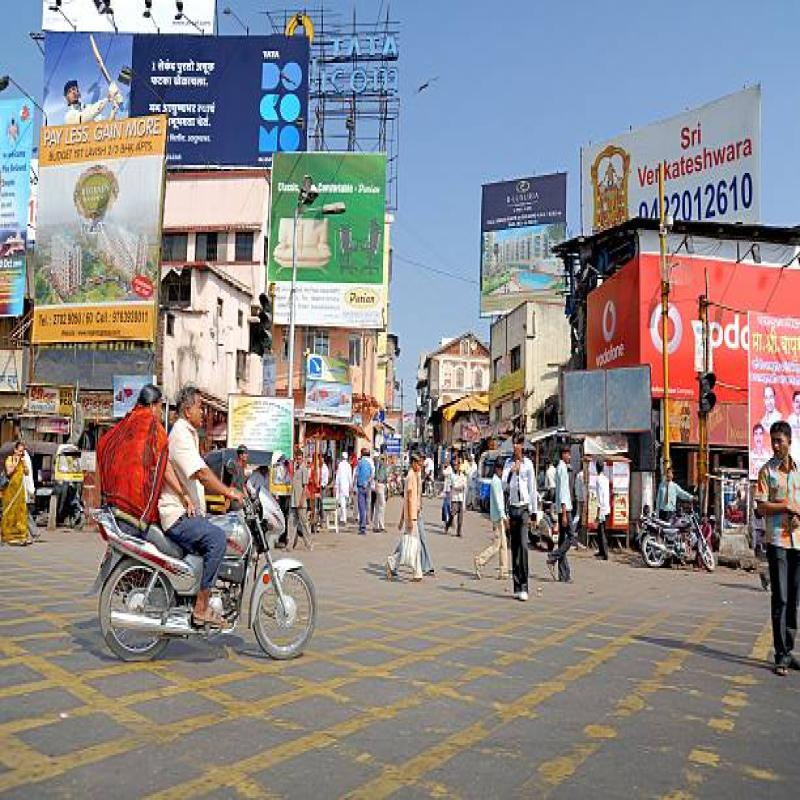bike: (110, 454, 316, 697), (636, 506, 707, 580)
